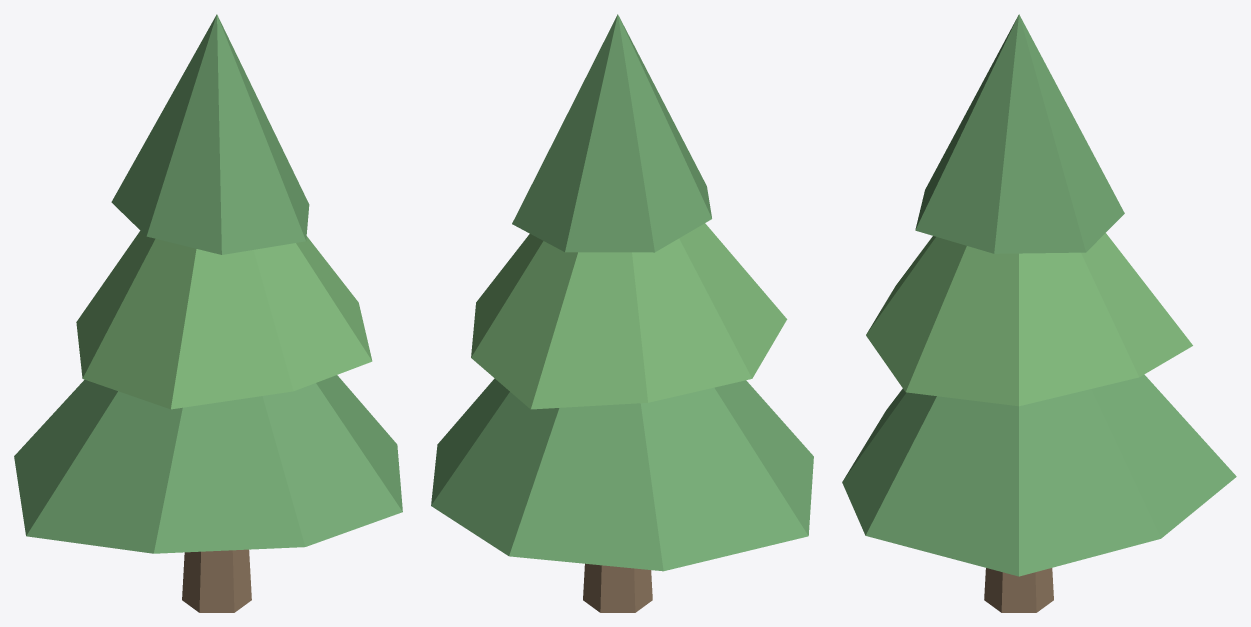
Rendered from tree_pine.fbx.
3 renders of one model, left to right at view 1: azimuth 30°, elevation 25°; view 2: azimuth 150°, elevation 25°; view 3: azimuth 270°, elevation 25°, orthographic.
Visible parts, largest first — view 1: tree_pine; view 2: tree_pine; view 3: tree_pine.
Boxes of the visible parts, x1,y1,x2,y2 form: tree_pine: [14, 14, 402, 612]; tree_pine: [431, 14, 813, 612]; tree_pine: [842, 14, 1236, 612].
Size of the model in its own units: 0.9811 by 1.48 by 0.9034.
